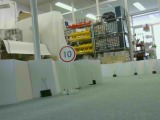speed_10: (57, 44, 77, 64)
